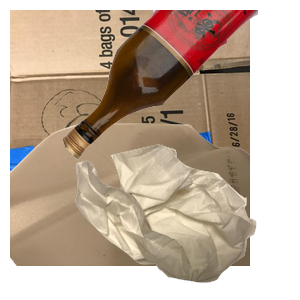cardboard: (10, 10, 250, 190)
glass: (60, 10, 300, 163)
plastic: (10, 120, 250, 300)
trash: (73, 142, 300, 300)
